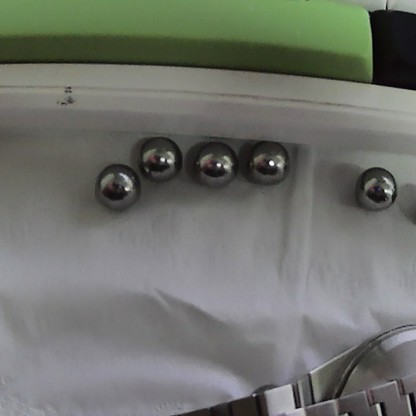ironball: (92, 160, 145, 214), (338, 165, 393, 217), (187, 140, 240, 190), (241, 136, 290, 185), (137, 135, 177, 184)
